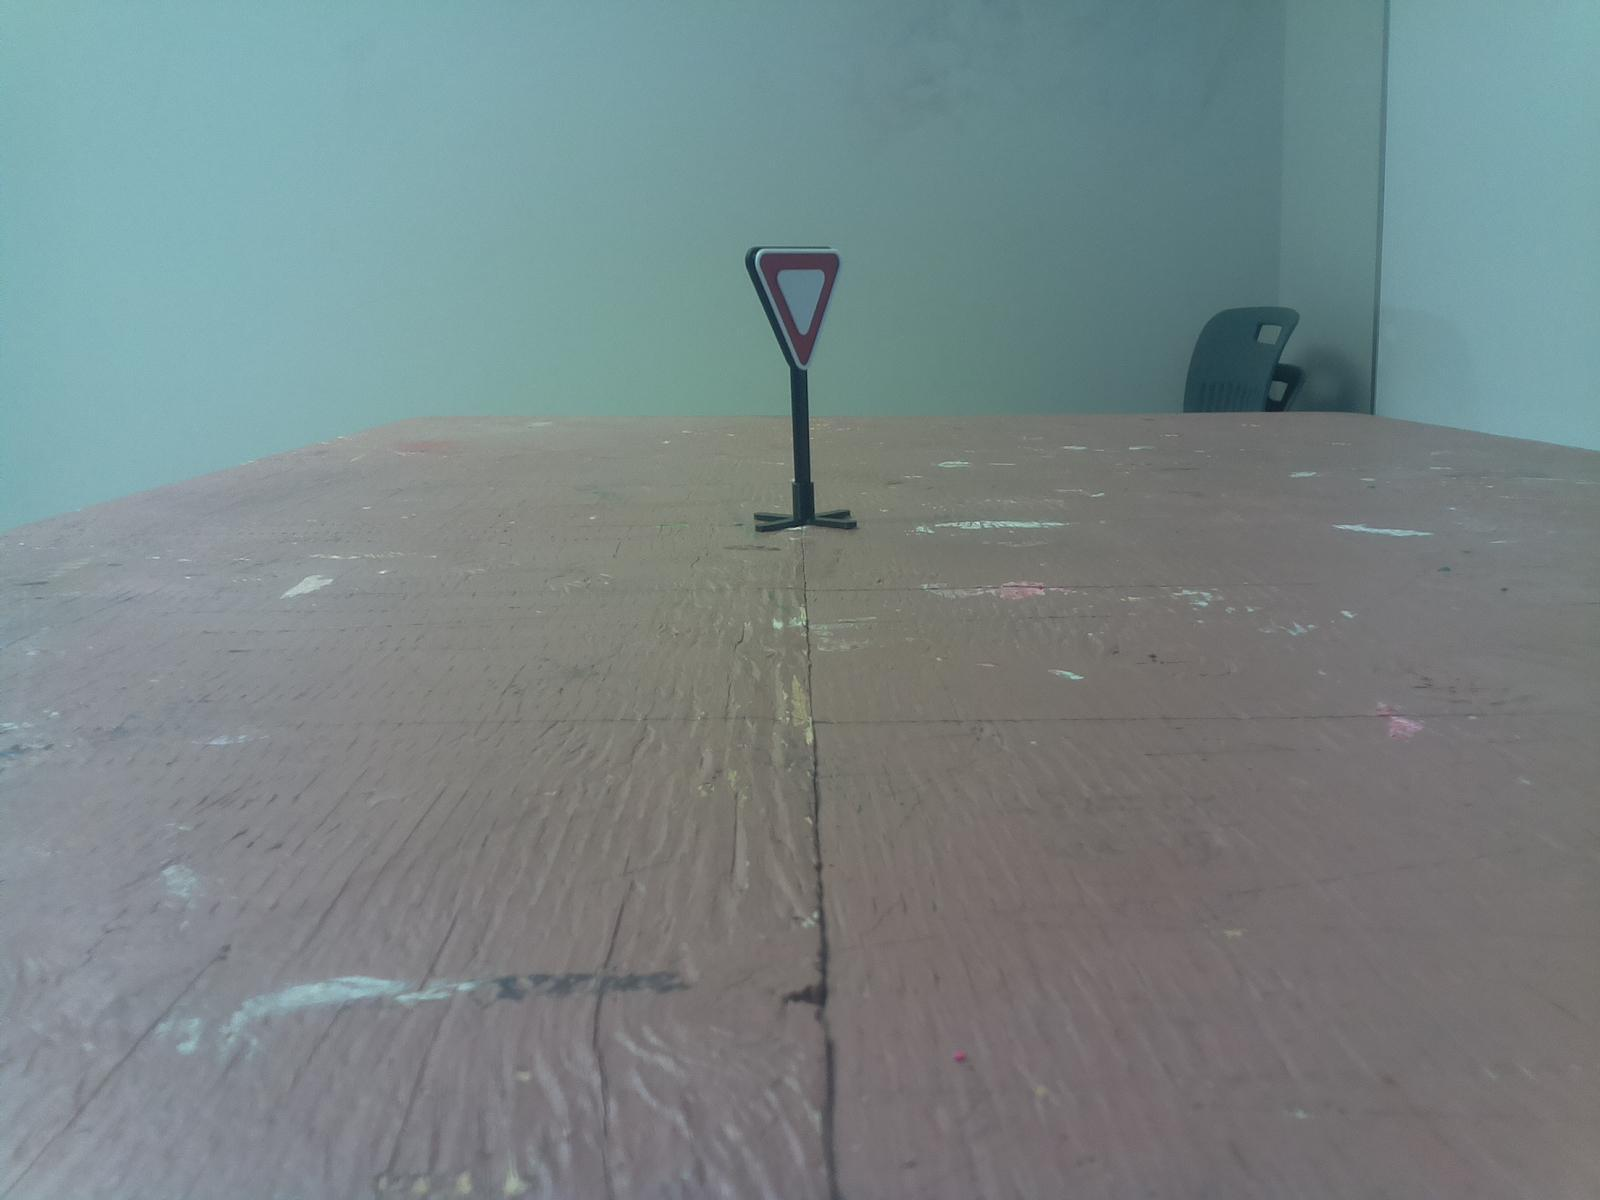sign_yield: (729, 233, 869, 379)
